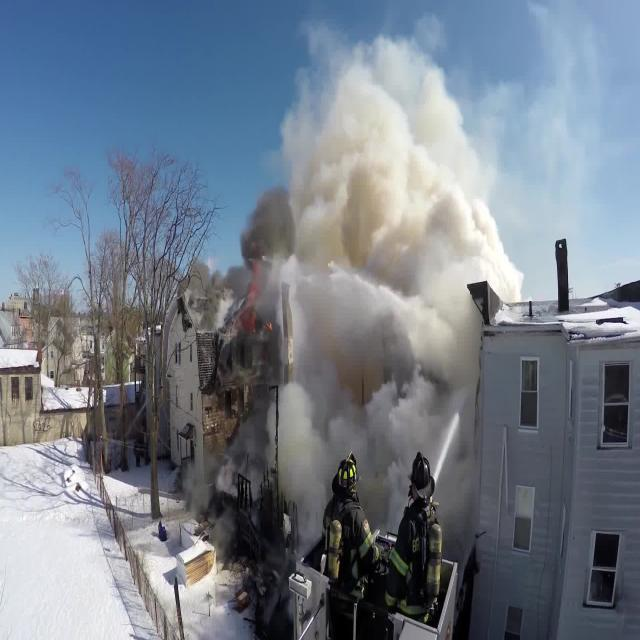Fire: (242, 252, 272, 341)
Smoke: (294, 56, 488, 529), (232, 192, 294, 408)
